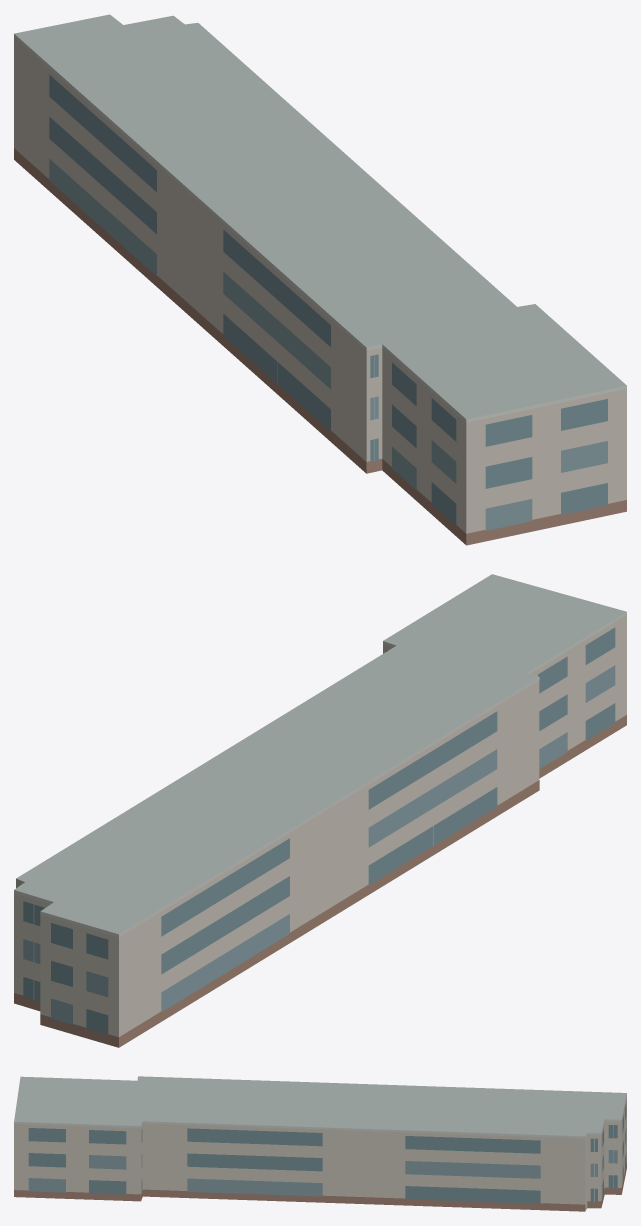
Rendered from survey-upis-32631465.glb.
3 renders of one model, top to bottom at view 1: azimuth 30°, elevation 25°; view 2: azimuth 150°, elevation 25°; view 3: azimuth 270°, elevation 25°, orthographic. The views are drawn at different scales.
Visible parts, largest first — view 1: survey-upis-32631465.tmp; view 2: survey-upis-32631465.tmp; view 3: survey-upis-32631465.tmp.
Boxes of the visible parts, x1,y1,x2,y2 form: survey-upis-32631465.tmp: (14,14,626,545); survey-upis-32631465.tmp: (14,574,626,1047); survey-upis-32631465.tmp: (14,1076,626,1211).
Bounding box in the file's own units: 15.7 × 9.15 × 67.57.
